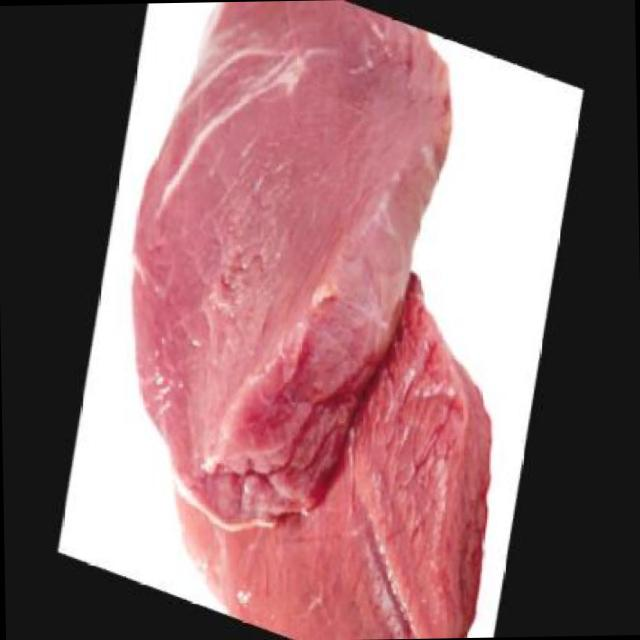beef: (65, 0, 575, 640)
